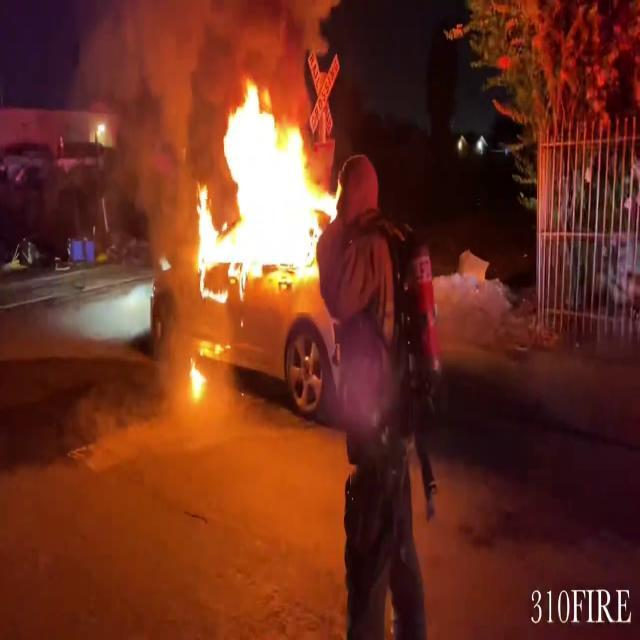Fire: (187, 75, 341, 295), (185, 351, 209, 411)
Smoke: (78, 0, 224, 239)
